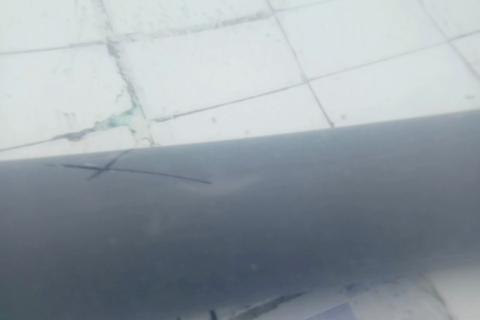keretakan: (45, 154, 214, 189)
